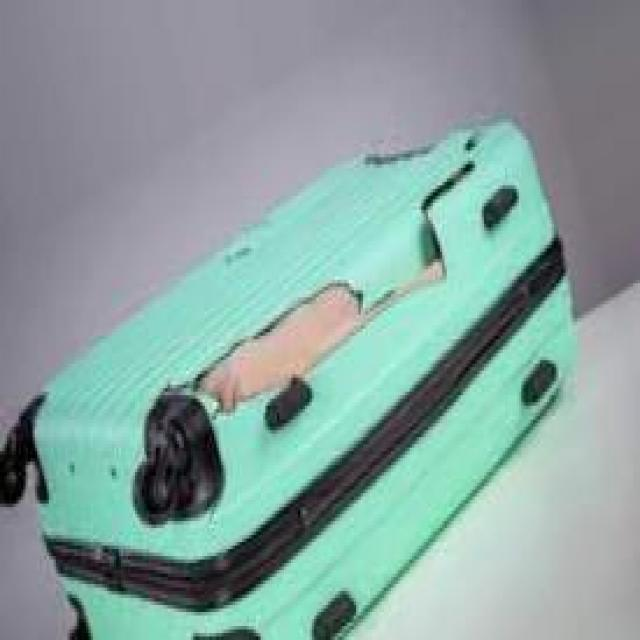Damage-bag: (158, 161, 474, 416), (364, 149, 430, 167), (225, 248, 251, 264)
